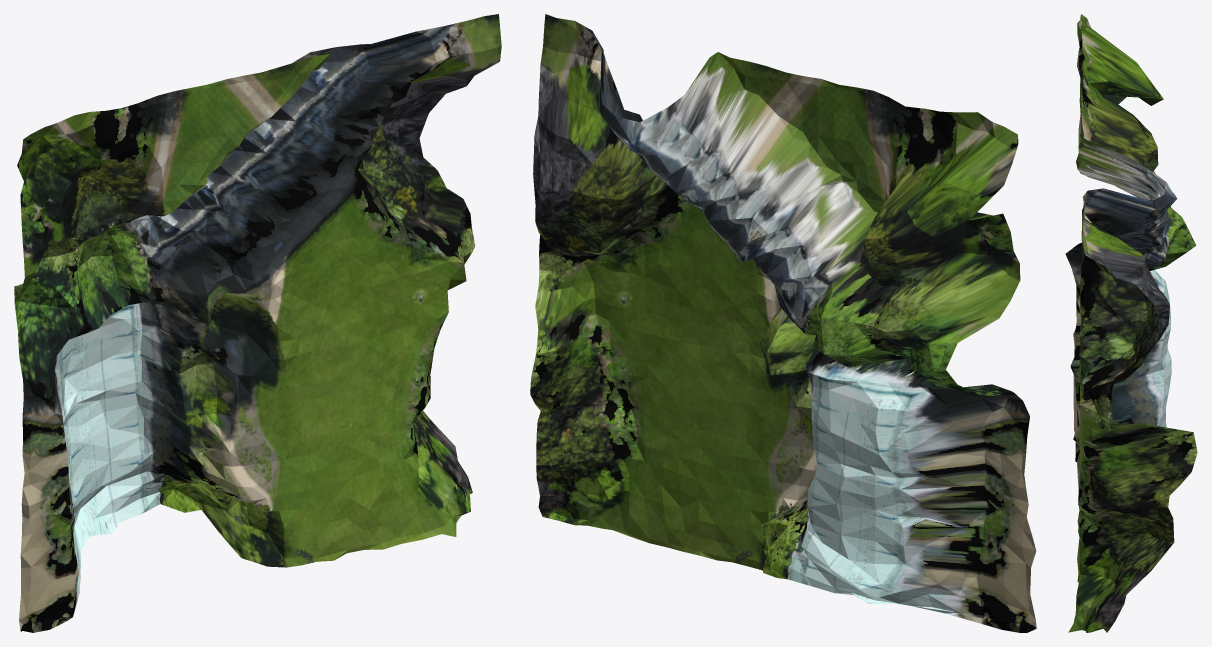
File: refine_rgb.obj
3 renders of one model, left to right at view 1: azimuth 30°, elevation 25°; view 2: azimuth 150°, elevation 25°; view 3: azimuth 270°, elevation 25°, orthographic. The views are drawn at different scales.
Size of the model in its own units: 74.42 by 74.51 by 19.91.
Materials: 1 (1 with a texture image).
